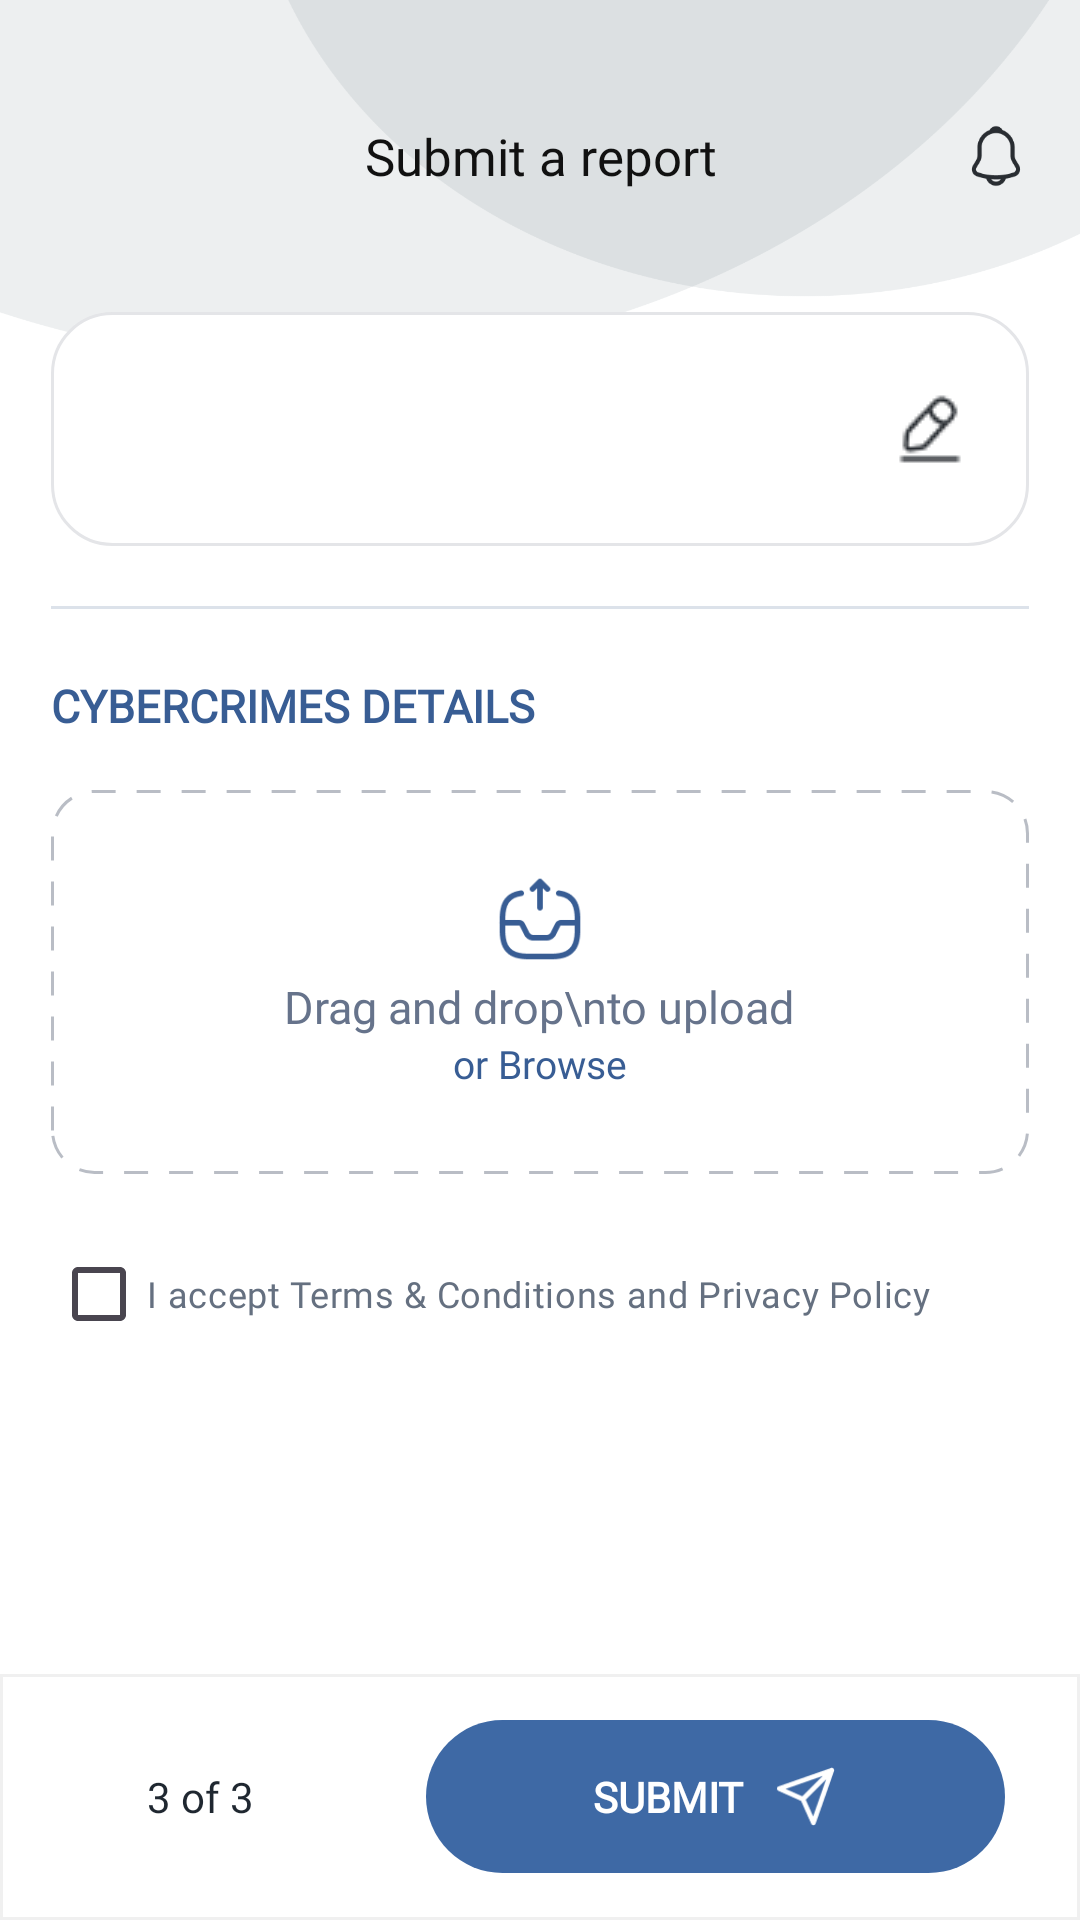

Screen size 1080×1920. Icon name, then its box in pixels as (x1, y1, x2, y2):
Edit: (899, 395, 961, 463)
Notifications: (972, 126, 1020, 186)
